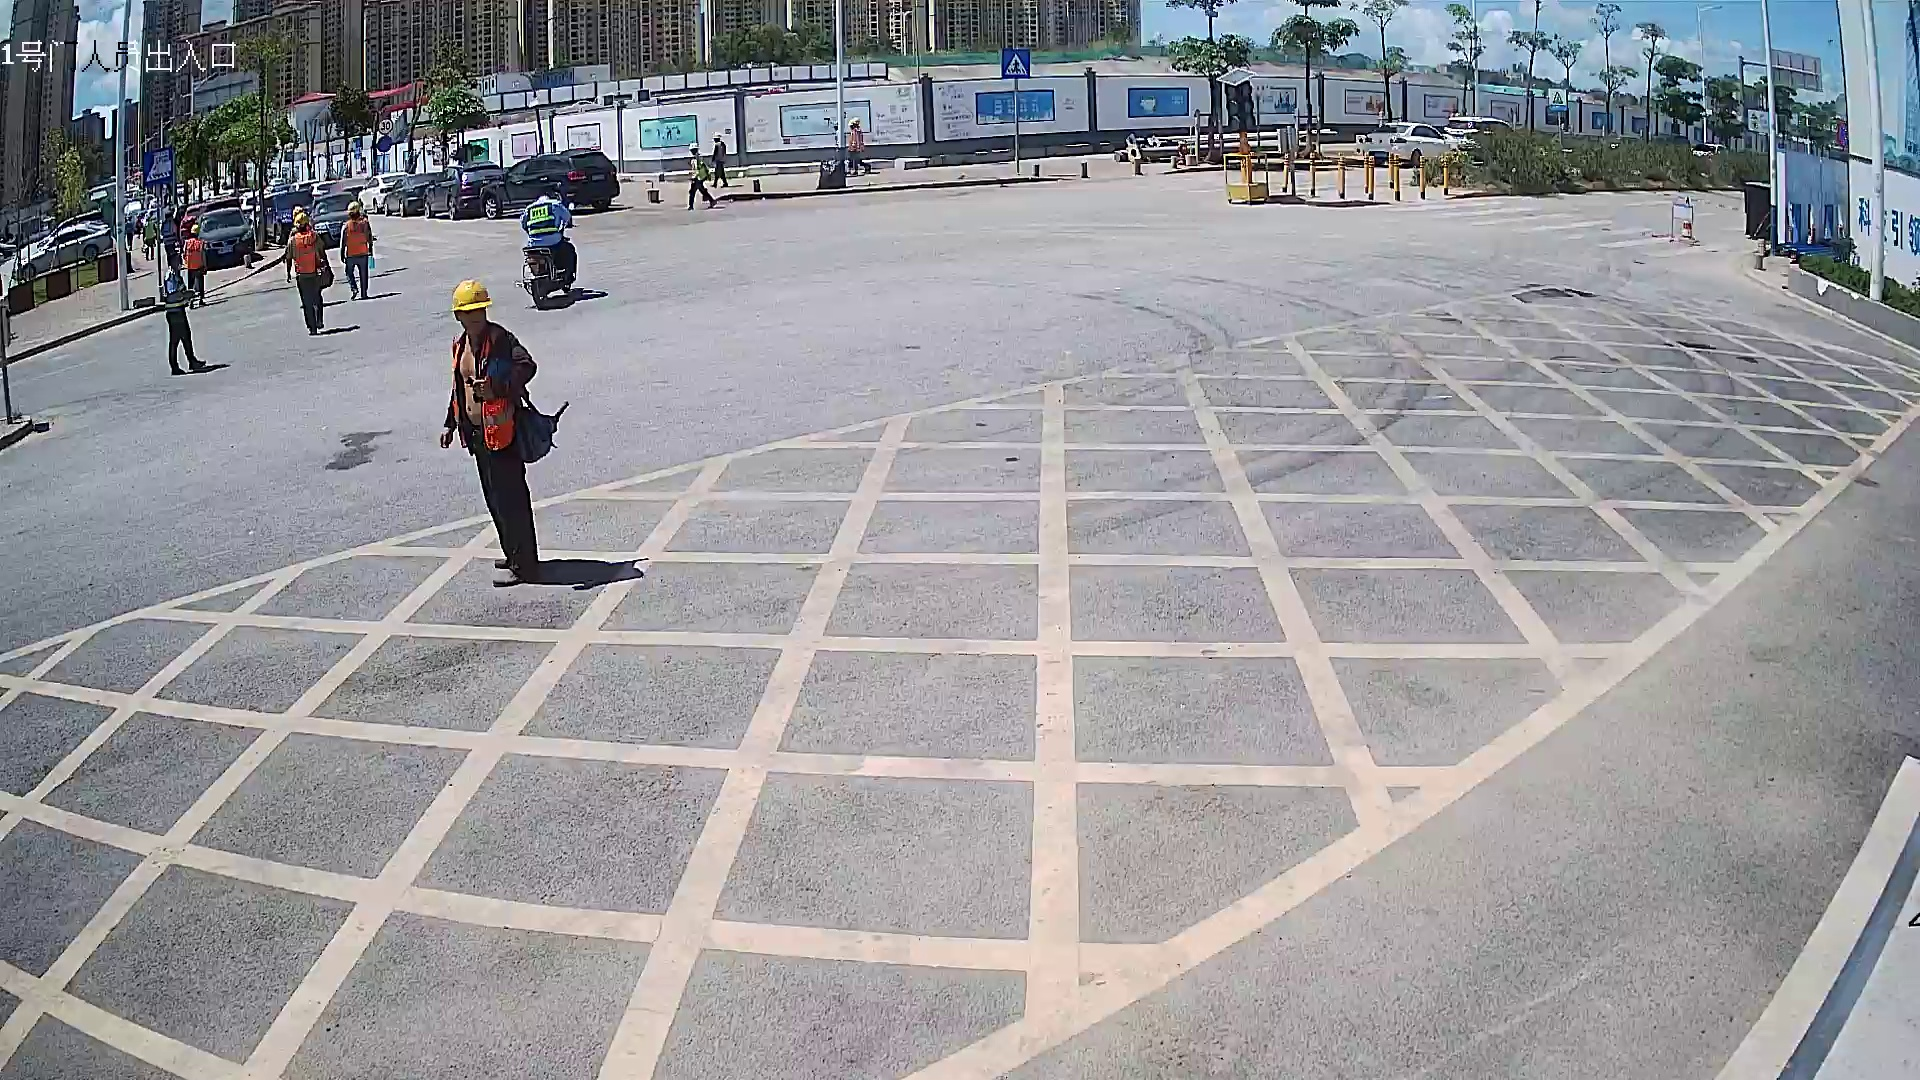ordinary_clothes: (450, 327, 514, 449)
person: (438, 277, 541, 589), (284, 210, 333, 339), (338, 201, 376, 301), (181, 221, 208, 311), (684, 140, 719, 211)
reflective_vest: (293, 228, 318, 275), (345, 218, 369, 258), (183, 236, 203, 270)
safety_helmet: (449, 277, 493, 336), (294, 210, 309, 231), (345, 200, 361, 219), (688, 141, 700, 154), (190, 222, 199, 237)
